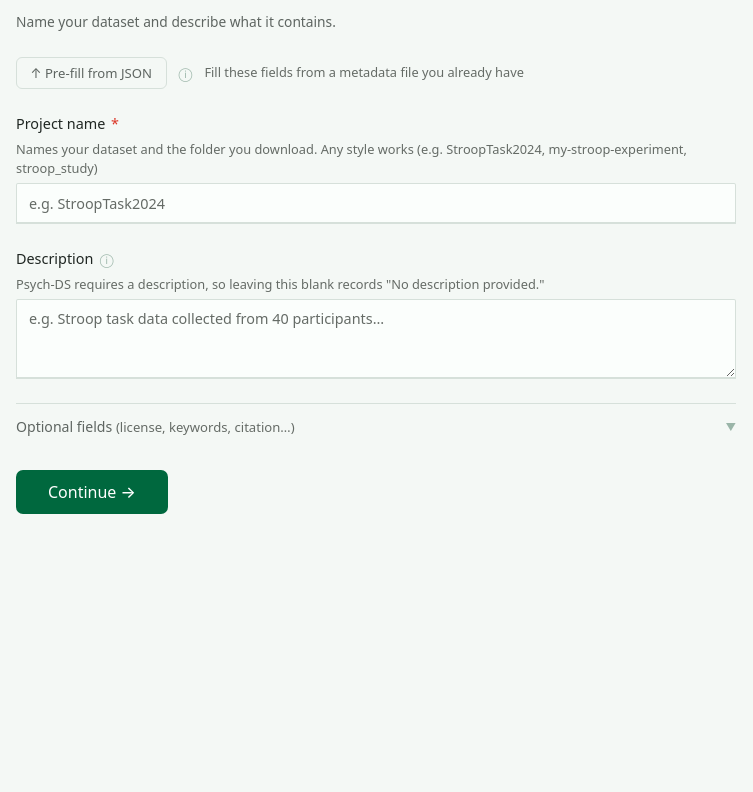
Scenario: ProjectInfo › help popovers › pre-fill help button toggles the upload explainer
The width and height of the screenshot is (753, 792).
Step 1. Click the button named "Help for pre-fill from JSON" → (185, 73), box [178,66,192,80]
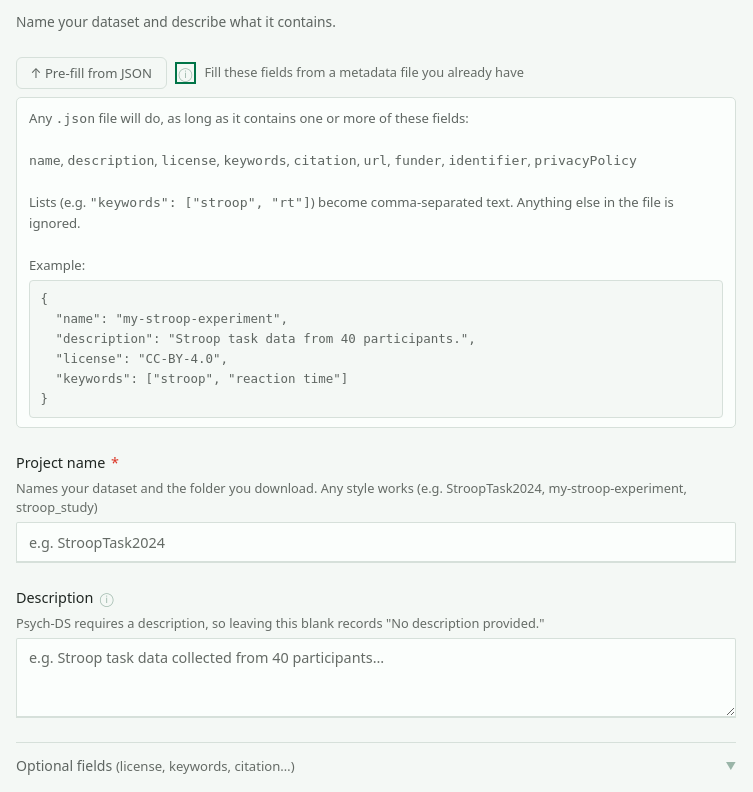
expect the text "Lists (e.g." is shown: met, box [29,193,90,211]
Step 2. Click the button named "Help for pre-fill from JSON" → (185, 73), box [178,66,192,80]
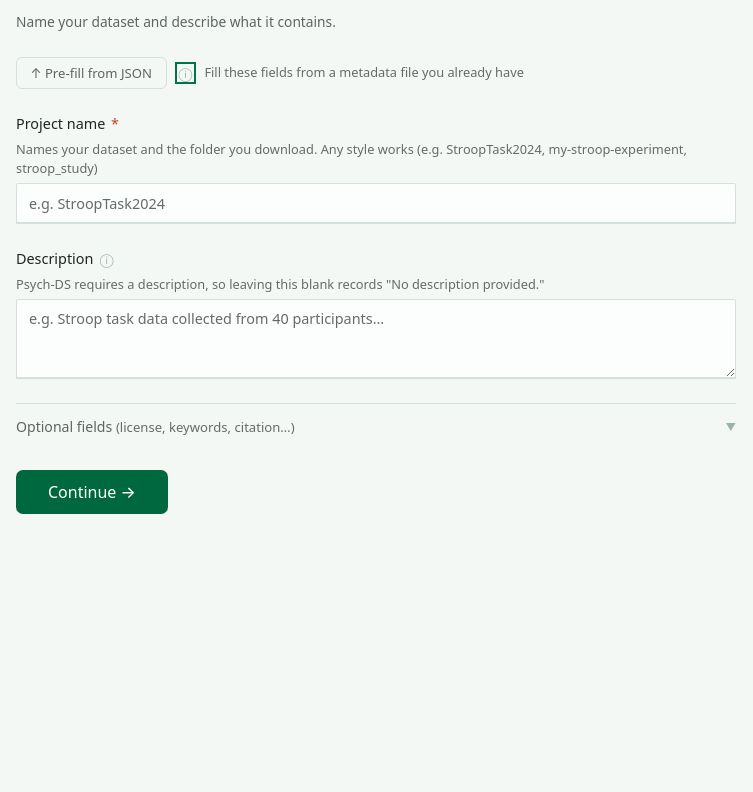
expect the text "Lists (e.g." is gone: met
